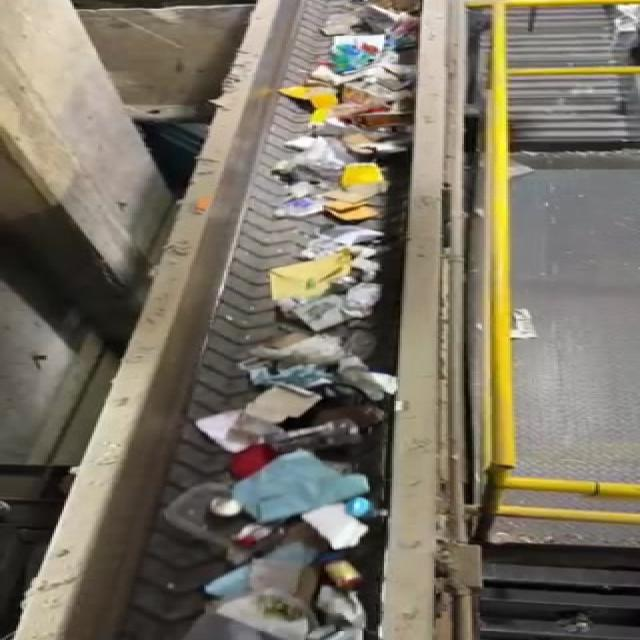metal: (310, 548, 371, 595)
paper: (217, 452, 382, 510), (208, 588, 319, 640), (236, 381, 328, 425)
